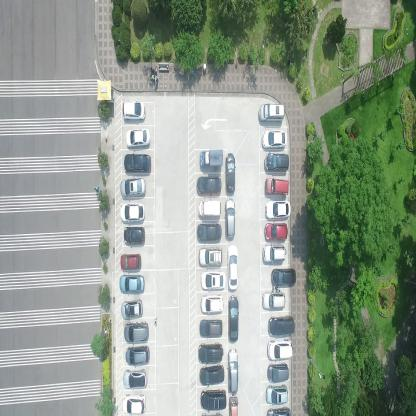car: (268, 315, 295, 339), (124, 152, 152, 175), (267, 338, 294, 361), (269, 267, 297, 289), (121, 392, 146, 416), (197, 341, 224, 363), (199, 388, 226, 410), (123, 322, 150, 344), (227, 294, 239, 343), (226, 243, 238, 291), (120, 201, 145, 224), (199, 364, 225, 386), (122, 368, 148, 390), (265, 383, 289, 406), (200, 269, 225, 291), (126, 127, 152, 148), (258, 103, 285, 123), (261, 128, 288, 148), (262, 290, 286, 312), (198, 197, 222, 219), (199, 245, 223, 267), (122, 100, 146, 122), (120, 298, 144, 320), (120, 274, 145, 295), (265, 199, 291, 219), (120, 178, 146, 198), (227, 348, 238, 394), (265, 176, 289, 197), (264, 152, 289, 172), (262, 244, 287, 264), (126, 346, 150, 366), (196, 174, 221, 193), (225, 198, 236, 240), (200, 294, 223, 314), (264, 223, 288, 242), (199, 320, 223, 339), (196, 224, 221, 242), (123, 226, 145, 246), (226, 151, 236, 193), (120, 252, 142, 271), (266, 363, 290, 380), (199, 150, 223, 167), (266, 406, 292, 416), (228, 396, 239, 415)
